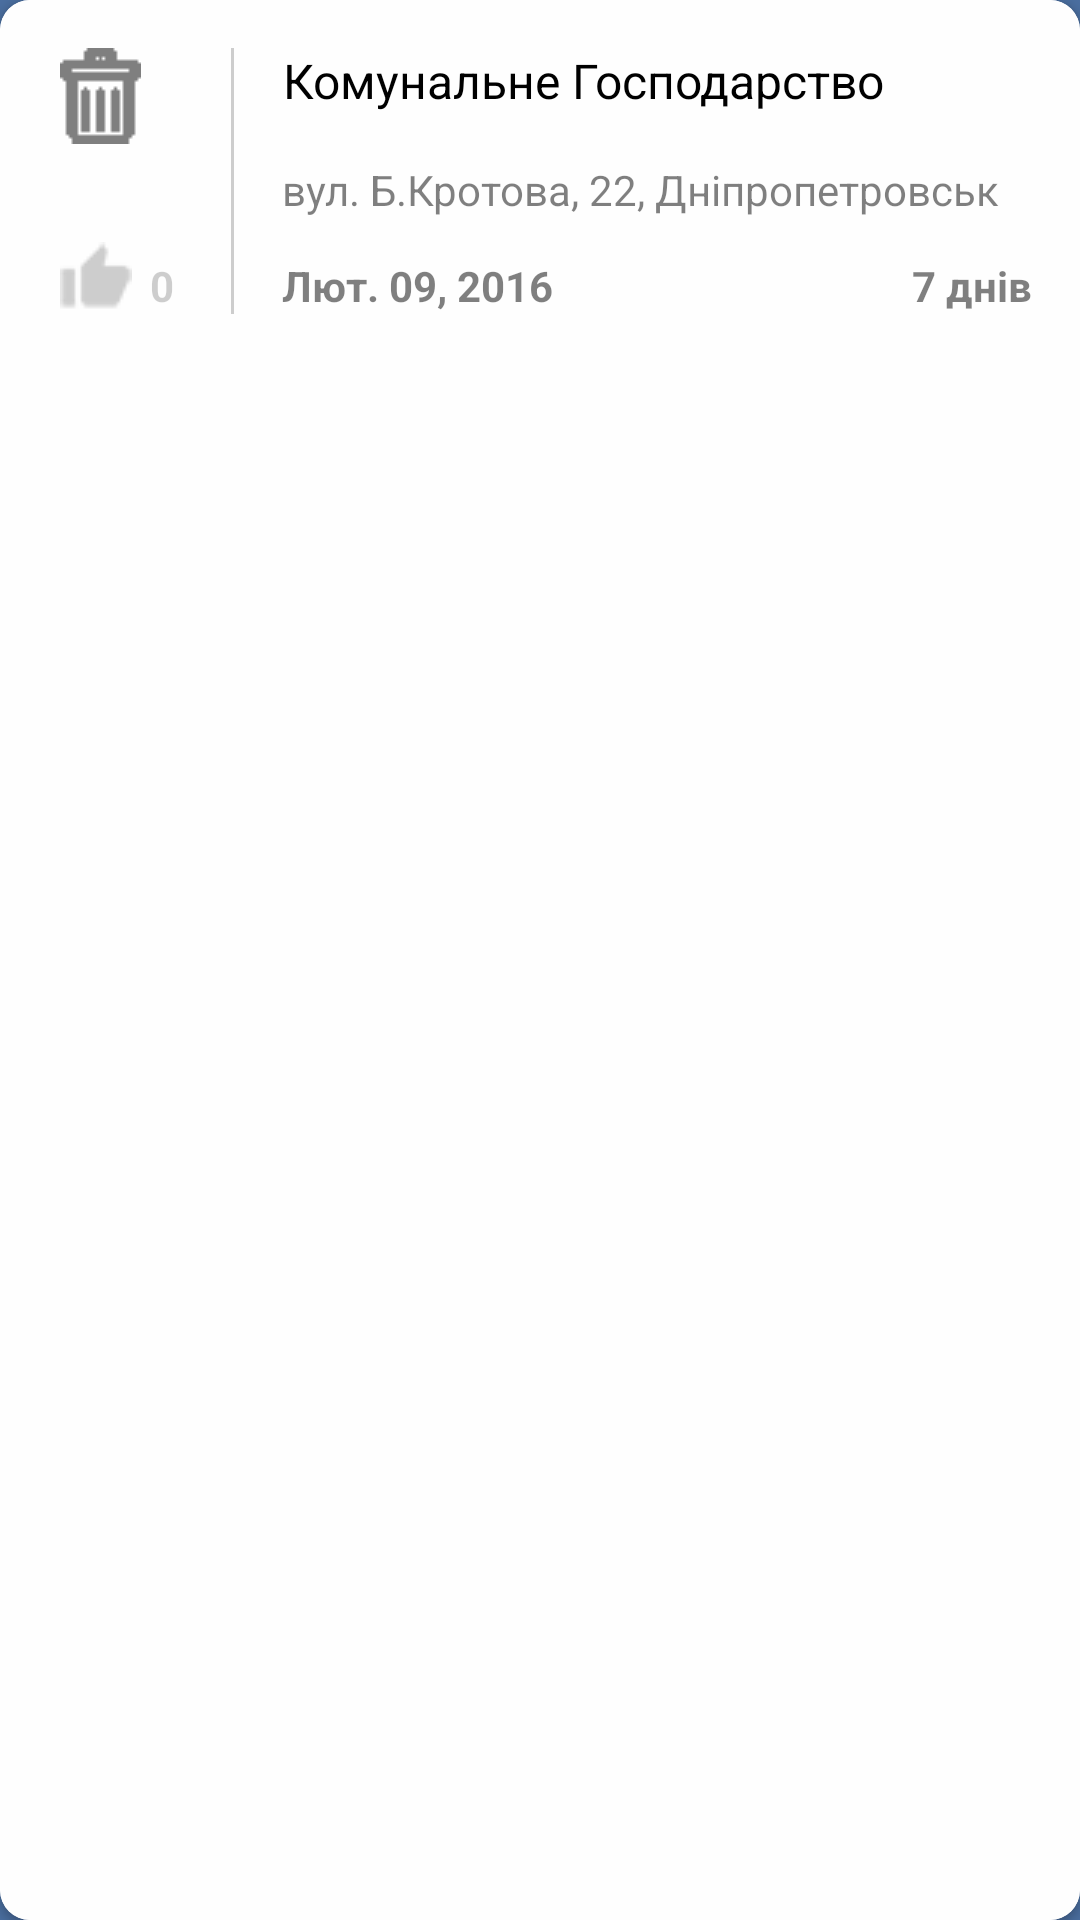

Point at icon controls on the screen. Image size 1080 x 1920, points as (x,y).
like: (96,276)
trash: (100,96)
